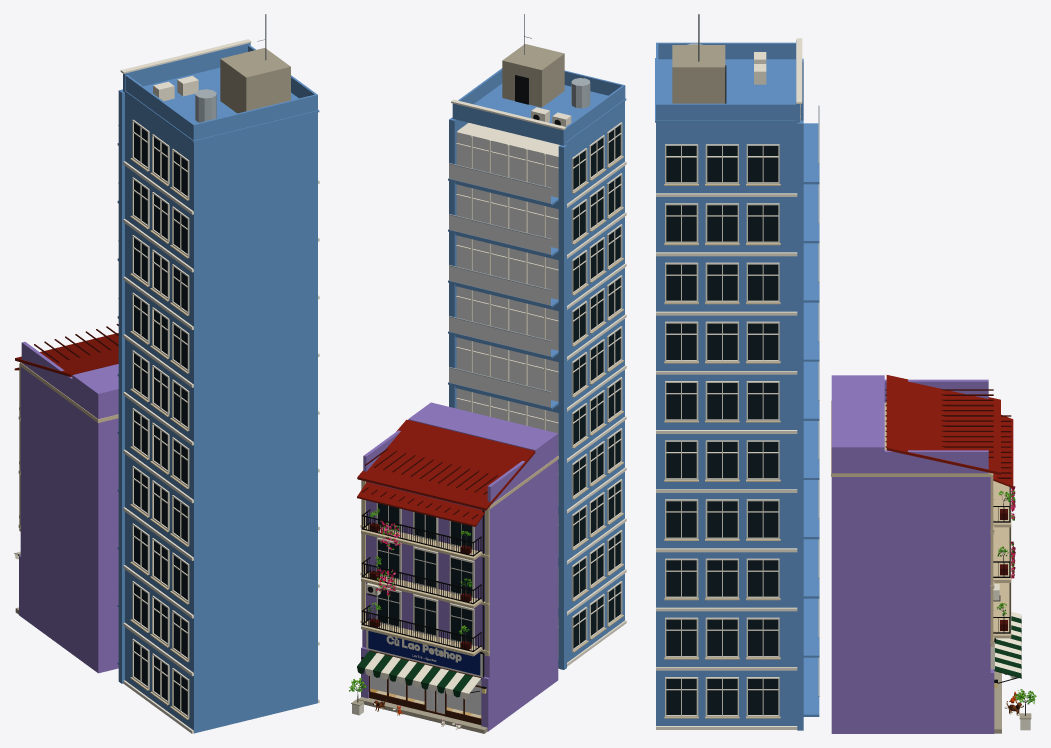
File: PV_StreetShop10_Petshop.fbx
3 renders of one model, left to right at view 1: azimuth 30°, elevation 25°; view 2: azimuth 150°, elevation 25°; view 3: azimuth 270°, elevation 25°, orthographic. The views are drawn at different scales.
Parts seen in each view (by area): view 1: PV_StreetShop10_Petshop_LOD0; view 2: PV_StreetShop10_Petshop_LOD0; view 3: PV_StreetShop10_Petshop_LOD0.
Part boxes in pixels (x1,y1,x2,y2): PV_StreetShop10_Petshop_LOD0: (14, 14, 319, 733); PV_StreetShop10_Petshop_LOD0: (349, 14, 626, 733); PV_StreetShop10_Petshop_LOD0: (655, 14, 1036, 733).
Size of what is drawn, in the model's own units: 8.46 by 37.8 by 18.71.
Materials: 2 (1 with a texture image).
